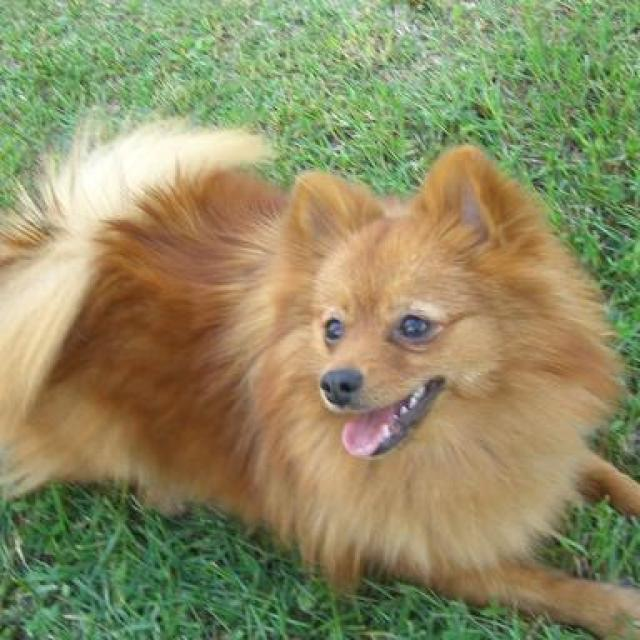adult_dog: (1, 106, 640, 640)
